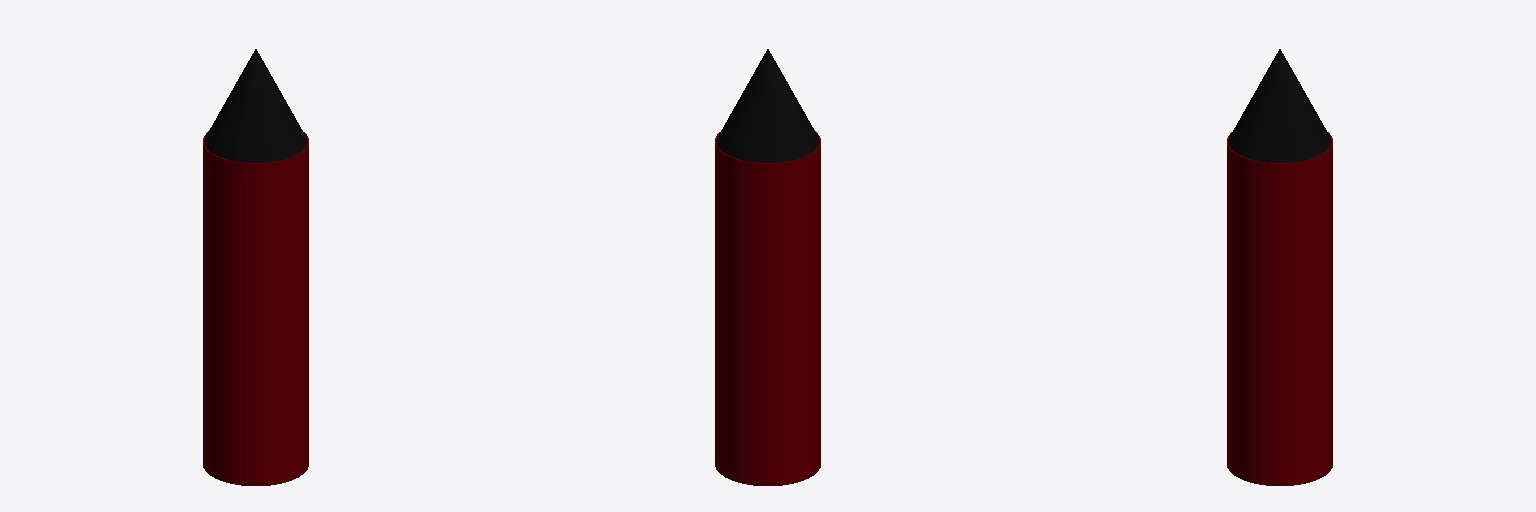
Rendered from rocket.obj.
3 renders of one model, left to right at view 1: azimuth 30°, elevation 25°; view 2: azimuth 150°, elevation 25°; view 3: azimuth 270°, elevation 25°, orthographic.
Parts seen in each view (by area): view 1: Cylinder_Mesh, Cone_Mesh; view 2: Cylinder_Mesh, Cone_Mesh; view 3: Cylinder_Mesh, Cone_Mesh.
Boxes of the visible parts, x1,y1,x2,y2 form: Cylinder_Mesh: [203, 131, 308, 485]; Cone_Mesh: [205, 49, 306, 162]; Cylinder_Mesh: [715, 131, 820, 485]; Cone_Mesh: [717, 49, 818, 162]; Cylinder_Mesh: [1227, 132, 1332, 485]; Cone_Mesh: [1228, 49, 1331, 162].
Bounding box in the file's own units: 0.6 × 2.58 × 0.6.